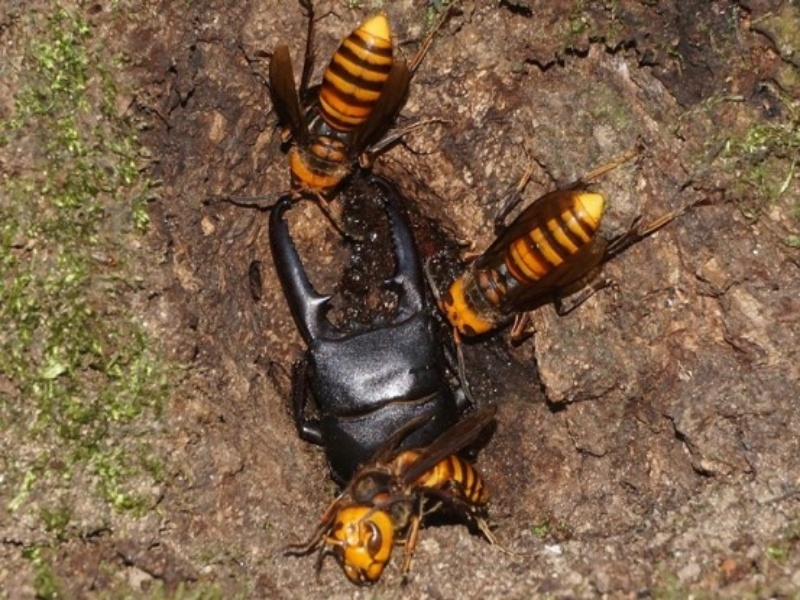asian_giant_hornet: (420, 148, 654, 360), (250, 4, 454, 219), (291, 404, 501, 597)
